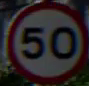Speed limit: (8, 3, 81, 76)
